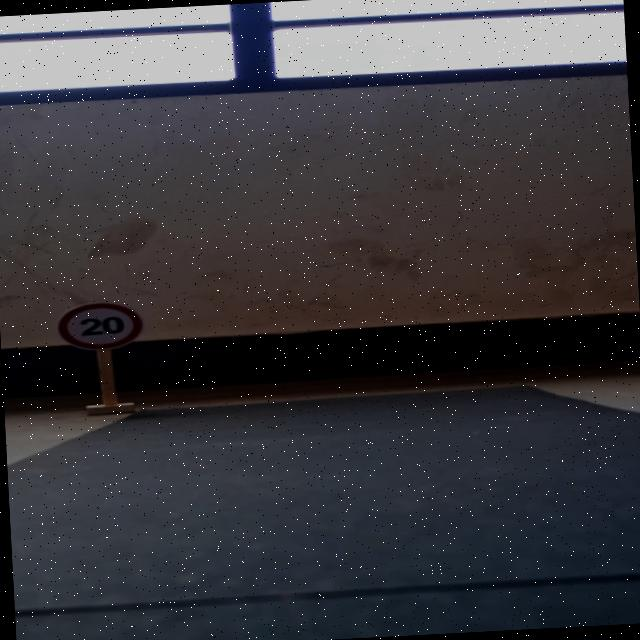Speed20: (42, 296, 154, 360)
